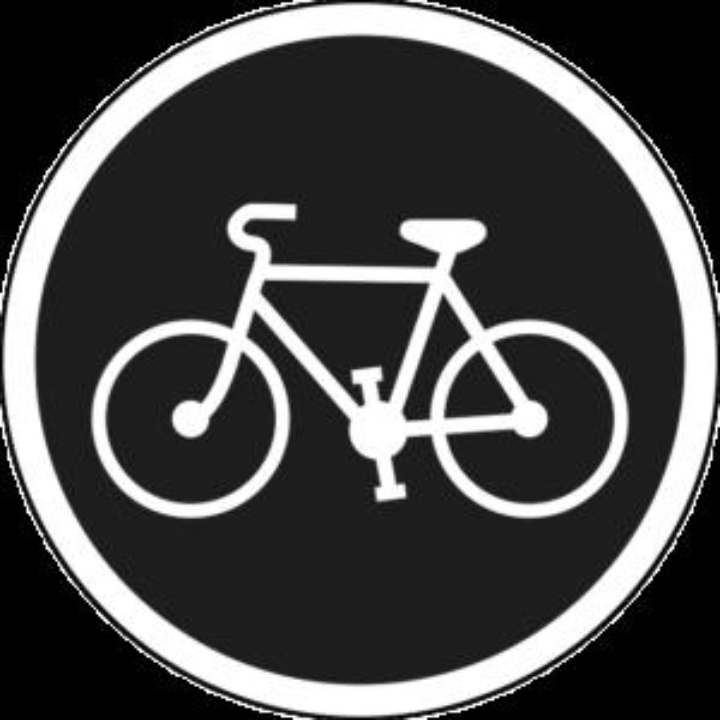bicycle: (69, 170, 635, 545)
